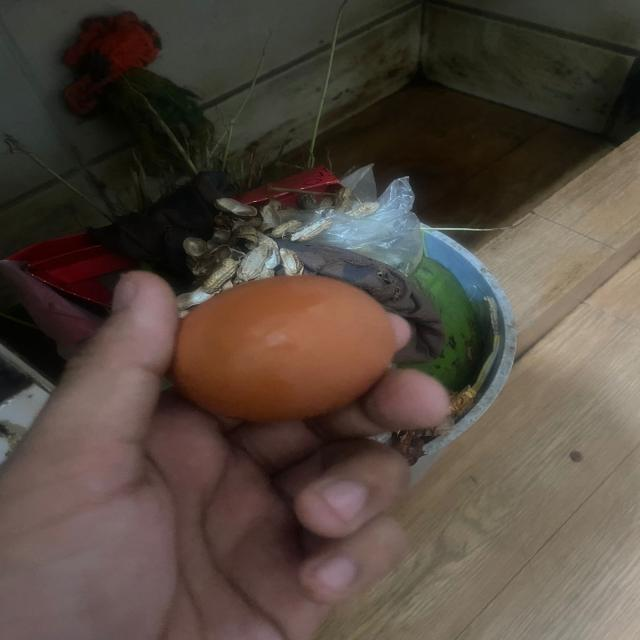egg: (178, 265, 398, 424)
